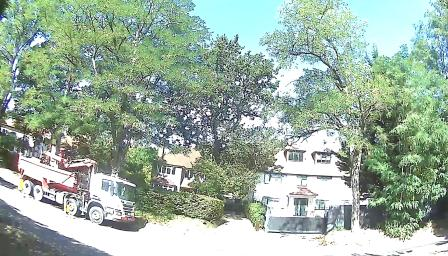truck: (16, 148, 142, 227)
